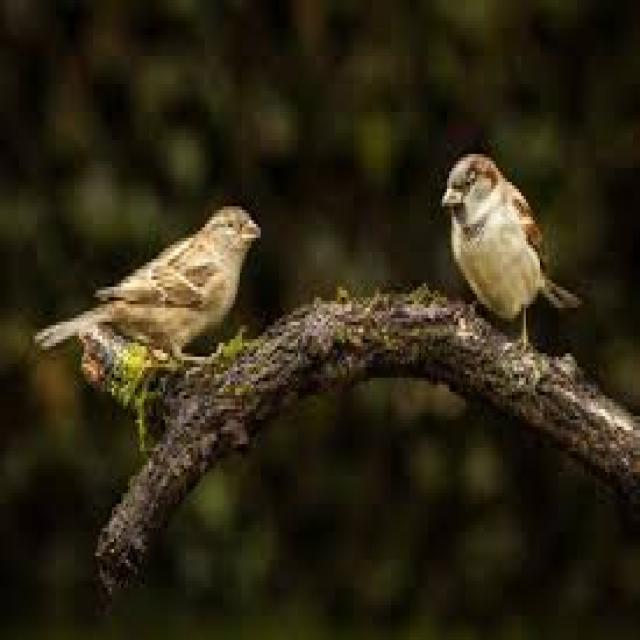Sparrow: (30, 186, 271, 394), (432, 135, 576, 362)
